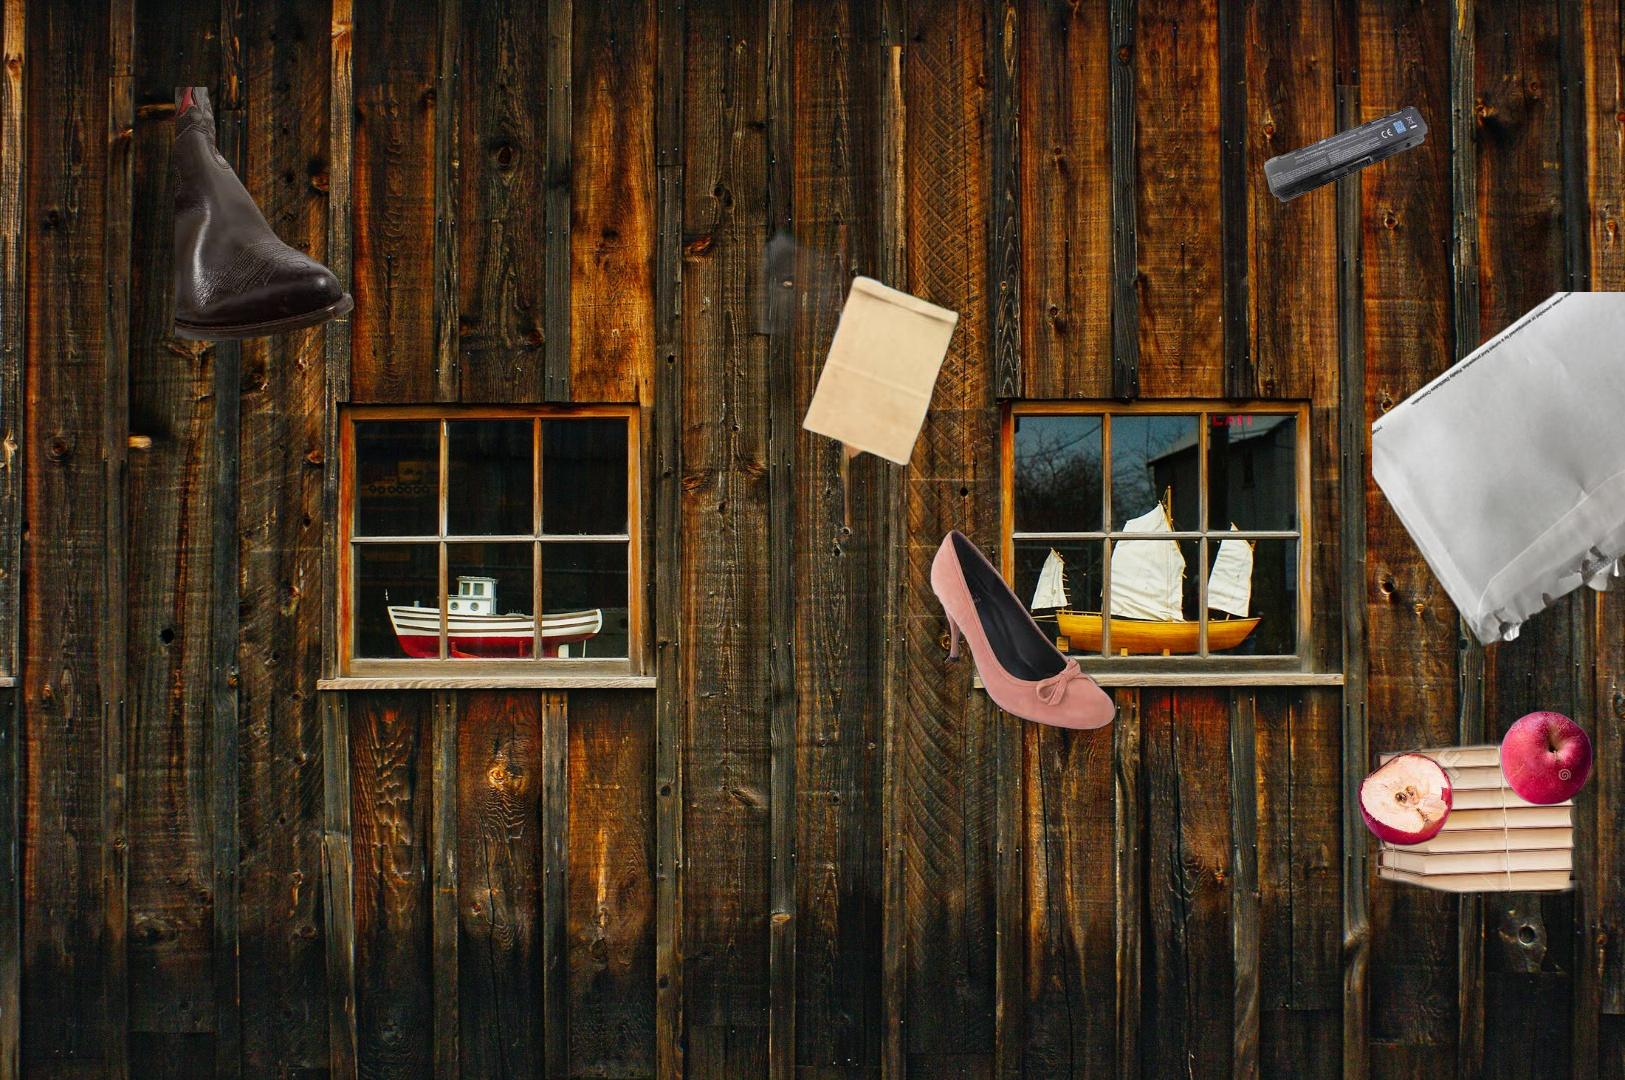battery: (1261, 102, 1431, 205)
biological: (1355, 708, 1595, 849)
paper: (1372, 292, 1625, 650)
paper-bag: (697, 225, 989, 526)
shoes: (175, 87, 357, 344), (928, 527, 1117, 733)
trashbox-cardboard: (976, 597, 1625, 909)
